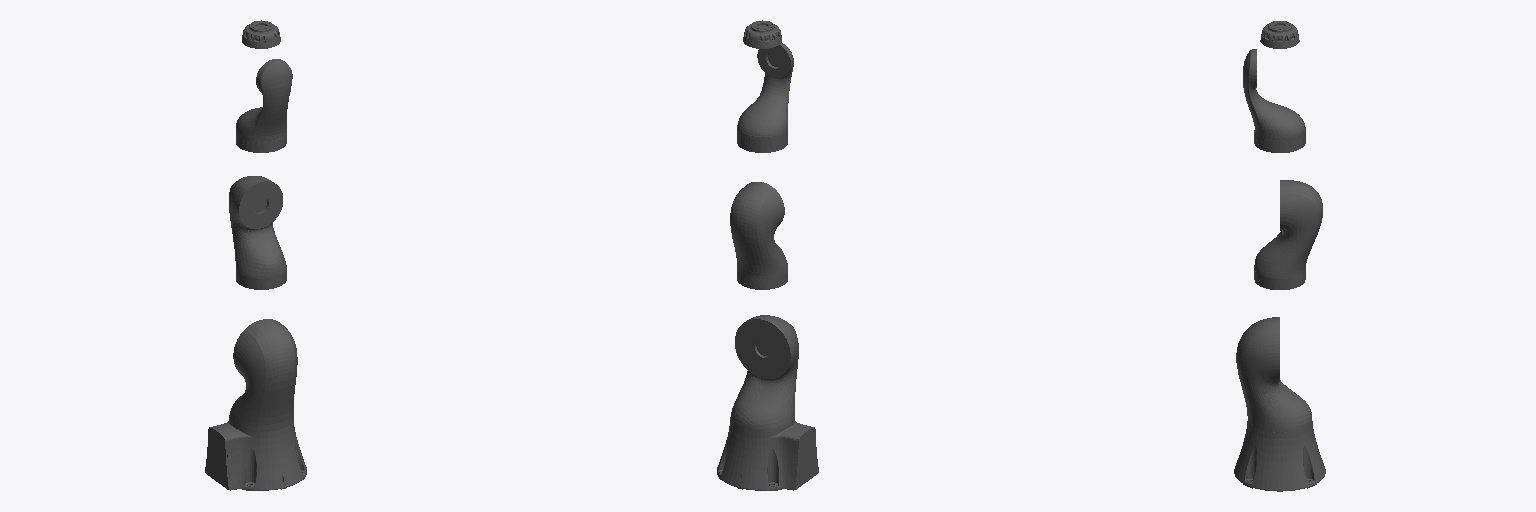
robot.urdf — iiwa14:
<?xml version="1.0"?>
<!-- =================================================================================== -->
<!-- |    This document was autogenerated by xacro from urdf/iiwa14_primitive_collision.urdf.xacro | -->
<!-- |    EDITING THIS FILE BY HAND IS NOT RECOMMENDED                                 | -->
<!-- =================================================================================== -->
<!-- ===================================================================== -->
<!-- Collision models: complex meshes can drastically affect run time.
     Therefore some collision models are represented as simple cylinders
     instead of meshes. However it's important to have accurate collision
     models for the end of the arm because we anticipate that the end is the
     most likely part of the arm to make contact.
-->
<!-- ===================================================================== -->
<robot xmlns:drake="http://drake.mit.edu" xmlns:xacro="http://www.ros.org/wiki/xacro" name="iiwa14">
  <!-- Import Rviz colors -->
  <material name="Black">
    <color rgba="0.0 0.0 0.0 1.0"/>
  </material>
  <material name="Blue">
    <color rgba="0.0 0.0 0.8 1.0"/>
  </material>
  <material name="Green">
    <color rgba="0.0 0.8 0.0 1.0"/>
  </material>
  <material name="Grey">
    <color rgba="0.4 0.4 0.4 1.0"/>
  </material>
  <material name="Silver">
    <color rgba="0.6 0.6 0.6 1.0"/>
  </material>
  <material name="Orange">
    <color rgba="1.0 0.423529411765 0.0392156862745 1.0"/>
  </material>
  <material name="Brown">
    <color rgba="0.870588235294 0.811764705882 0.764705882353 1.0"/>
  </material>
  <material name="Red">
    <color rgba="0.8 0.0 0.0 1.0"/>
  </material>
  <material name="White">
    <color rgba="1.0 1.0 1.0 1.0"/>
  </material>
  <!-- Defines a base link that will serve as the model's root. -->
  <link name="base"/>
  <!--joint between {parent} and link_0-->
  <joint name="iiwa_base_joint" type="fixed">
    <origin rpy="0 0 0" xyz="0 0 0"/>
    <parent link="base"/>
    <child link="iiwa_link_0"/>
  </joint>
  <link name="iiwa_link_0">
    <inertial>
      <origin rpy="0 0 0" xyz="-0.1 0 0.07"/>
      <mass value="5"/>
      <inertia ixx="0.05" ixy="0" ixz="0" iyy="0.06" iyz="0" izz="0.03"/>
    </inertial>
    <visual>
      <origin rpy="0 0 0" xyz="0 0 0"/>
      <geometry>
        <mesh filename="package://drake/manipulation/models/iiwa_description/meshes/visual/link_0.obj"/>
      </geometry>
      <material name="Grey"/>
    </visual>
    <collision>
      <origin rpy="0 0 0" xyz="-0.015 0 0.07"/>
      <geometry>
        <cylinder length="0.17" radius="0.139"/>
      </geometry>
      <material name="Grey"/>
    </collision>
    <self_collision_checking>
      <origin rpy="0 0 0" xyz="0 0 0"/>
      <geometry>
        <capsule length="0.25" radius="0.15"/>
      </geometry>
    </self_collision_checking>
  </link>
  <!-- joint between link_0 and link_1 -->
  <joint name="iiwa_joint_1" type="revolute">
    <parent link="iiwa_link_0"/>
    <child link="iiwa_link_1"/>
    <origin rpy="0 0 0" xyz="0 0 0.1575"/>
    <axis xyz="0 0 1"/>
    <limit drake:acceleration="8.57" effort="320" lower="-2.96705972839" upper="2.96705972839" velocity="1.4835298641951802"/>
    <dynamics damping="0.5"/>
  </joint>
  <link name="iiwa_link_1">
    <inertial>
      <origin rpy="0 0 0" xyz="0 -0.03 0.12"/>
      <mass value="5.76"/>
      <inertia ixx="0.033" ixy="0" ixz="0" iyy="0.0333" iyz="0" izz="0.0123"/>
    </inertial>
    <visual>
      <origin rpy="0 0 0" xyz="0 0 0"/>
      <geometry>
        <mesh filename="package://drake/manipulation/models/iiwa_description/meshes/visual/link_1.obj"/>
      </geometry>
      <material name="Grey"/>
    </visual>
    <collision>
      <origin rpy="0 0 0" xyz="0 -0.014 0.14"/>
      <geometry>
        <cylinder length="0.29" radius="0.101"/>
      </geometry>
      <material name="Grey"/>
    </collision>
  </link>
  <!-- joint between link_1 and link_2 -->
  <joint name="iiwa_joint_2" type="revolute">
    <parent link="iiwa_link_1"/>
    <child link="iiwa_link_2"/>
    <origin rpy="1.570796326794897   0 3.141592653589793" xyz="0 0 0.2025"/>
    <axis xyz="0 0 1"/>
    <limit drake:acceleration="8.57" effort="320" lower="-2.09439510239" upper="2.09439510239" velocity="1.4835298641951802"/>
    <dynamics damping="0.5"/>
  </joint>
  <link name="iiwa_link_2">
    <inertial>
      <origin rpy="0 0 0" xyz="0.0003 0.059 0.042"/>
      <mass value="6.35"/>
      <!-- 3.95 kuka CAD value-->
      <!--4 Original Drake URDF value-->
      <inertia ixx="0.0305" ixy="0" ixz="0" iyy="0.0304" iyz="0" izz="0.011"/>
    </inertial>
    <visual>
      <origin rpy="0 0 0" xyz="0 0 0"/>
      <geometry>
        <mesh filename="package://drake/manipulation/models/iiwa_description/meshes/visual/link_2_orange.obj"/>
      </geometry>
      <material name="Orange"/>
    </visual>
    <visual>
      <origin rpy="0 0 0" xyz="0 0 0"/>
      <geometry>
        <mesh filename="package://drake/manipulation/models/iiwa_description/meshes/visual/link_2_grey.obj"/>
      </geometry>
      <material name="Grey"/>
    </visual>
    <collision>
      <origin rpy="1.570796326794897 0 0" xyz="0 0.056 0.035"/>
      <geometry>
        <cylinder length="0.29" radius="0.101"/>
      </geometry>
      <material name="Orange"/>
    </collision>
  </link>
  <!-- joint between link_2 and link_3 -->
  <joint name="iiwa_joint_3" type="revolute">
    <parent link="iiwa_link_2"/>
    <child link="iiwa_link_3"/>
    <origin rpy="1.570796326794897 0 3.141592653589793" xyz="0 0.2045 0"/>
    <axis xyz="0 0 1"/>
    <limit drake:acceleration="8.74" effort="176" lower="-2.96705972839" upper="2.96705972839" velocity="1.7453292519943295"/>
    <dynamics damping="0.5"/>
  </joint>
  <link name="iiwa_link_3">
    <inertial>
      <origin rpy="0 0 0" xyz="0 0.03 0.13"/>
      <mass value="3.5"/>
      <!--3.18 kuka CAD value-->
      <!--3 Original Drake URDF value-->
      <inertia ixx="0.025" ixy="0" ixz="0" iyy="0.0238" iyz="0" izz="0.0076"/>
    </inertial>
    <visual>
      <origin rpy="0 0 0" xyz="0 0 0"/>
      <geometry>
        <mesh filename="package://drake/manipulation/models/iiwa_description/meshes/visual/link_3.obj"/>
      </geometry>
      <material name="Grey"/>
    </visual>
    <visual>
      <origin rpy="0 0 0" xyz="0 0 0"/>
      <geometry>
        <mesh filename="package://drake/manipulation/models/iiwa_description/meshes/visual/band.obj"/>
      </geometry>
      <material name="Silver"/>
    </visual>
    <visual>
      <origin rpy="0 0 0" xyz="0 0 0"/>
      <geometry>
        <mesh filename="package://drake/manipulation/models/iiwa_description/meshes/visual/kuka.obj"/>
      </geometry>
      <material name="Black"/>
    </visual>
    <collision>
      <origin rpy="0 0 0" xyz="0 0.025 0.137"/>
      <geometry>
        <cylinder length="0.29" radius="0.092"/>
      </geometry>
      <material name="Grey"/>
    </collision>
  </link>
  <!-- joint between link_3 and link_4 -->
  <joint name="iiwa_joint_4" type="revolute">
    <parent link="iiwa_link_3"/>
    <child link="iiwa_link_4"/>
    <origin rpy="1.570796326794897 0 0" xyz="0 0 0.2155"/>
    <axis xyz="0 0 1"/>
    <limit drake:acceleration="11.36" effort="176" lower="-2.09439510239" upper="2.09439510239" velocity="1.3089969389957472"/>
    <dynamics damping="0.5"/>
  </joint>
  <link name="iiwa_link_4">
    <inertial>
      <origin rpy="0 0 0" xyz="0 0.067 0.034"/>
      <mass value="3.5"/>
      <!--2.74 kuka CAD value-->
      <!--2.7 Original Drake URDF value-->
      <inertia ixx="0.017" ixy="0" ixz="0" iyy="0.0164" iyz="0" izz="0.006"/>
    </inertial>
    <visual>
      <origin rpy="0 0 0" xyz="0 0 0"/>
      <geometry>
        <mesh filename="package://drake/manipulation/models/iiwa_description/meshes/visual/link_4_orange.obj"/>
      </geometry>
      <material name="Orange"/>
    </visual>
    <visual>
      <origin rpy="0 0 0" xyz="0 0 0"/>
      <geometry>
        <mesh filename="package://drake/manipulation/models/iiwa_description/meshes/visual/link_4_grey.obj"/>
      </geometry>
      <material name="Grey"/>
    </visual>
    <collision>
      <origin rpy="1.570796326794897 0 0" xyz="0 0.056 0.025"/>
      <geometry>
        <cylinder length="0.25" radius="0.092"/>
      </geometry>
      <material name="Orange"/>
    </collision>
  </link>
  <!-- joint between link_4 and link_5 -->
  <joint name="iiwa_joint_5" type="revolute">
    <parent link="iiwa_link_4"/>
    <child link="iiwa_link_5"/>
    <origin rpy="-1.570796326794897 3.141592653589793 0" xyz="0 0.1845 0"/>
    <axis xyz="0 0 1"/>
    <limit drake:acceleration="12.23" effort="110" lower="-2.96705972839" upper="2.96705972839" velocity="2.2689280275926285"/>
    <dynamics damping="0.5"/>
  </joint>
  <link name="iiwa_link_5">
    <inertial>
      <origin rpy="0 0 0" xyz="0.0001 0.021 0.076"/>
      <mass value="3.5"/>
      <!--1.69 kuka CAD value-->
      <!--1.7 Original Drake URDF value-->
      <inertia ixx="0.01" ixy="0" ixz="0" iyy="0.0087" iyz="0" izz="0.00449"/>
    </inertial>
    <visual>
      <origin rpy="0 0 0" xyz="0 0 0"/>
      <geometry>
        <mesh filename="package://drake/manipulation/models/iiwa_description/meshes/visual/link_5.obj"/>
      </geometry>
      <material name="Grey"/>
    </visual>
    <visual>
      <origin rpy="0 0 0" xyz="0 0 0"/>
      <geometry>
        <mesh filename="package://drake/manipulation/models/iiwa_description/meshes/visual/band.obj"/>
      </geometry>
      <material name="Silver"/>
    </visual>
    <visual>
      <origin rpy="0 0 0" xyz="0 0 0"/>
      <geometry>
        <mesh filename="package://drake/manipulation/models/iiwa_description/meshes/visual/kuka.obj"/>
      </geometry>
      <material name="Black"/>
    </visual>
    <collision>
      <origin rpy="-0.3 0 0" xyz="0 0.03 0.13"/>
      <geometry>
        <cylinder length="0.29" radius="0.07"/>
      </geometry>
      <material name="Grey"/>
    </collision>
  </link>
  <!-- joint between link_5 and link_6 -->
  <joint name="iiwa_joint_6" type="revolute">
    <parent link="iiwa_link_5"/>
    <child link="iiwa_link_6"/>
    <origin rpy="1.570796326794897 0 0" xyz="0 0 0.2155"/>
    <axis xyz="0 0 1"/>
    <limit drake:acceleration="15.72" effort="40" lower="-2.09439510239" upper="2.09439510239" velocity="2.356194490192345"/>
    <dynamics damping="0.5"/>
  </joint>
  <link name="iiwa_link_6">
    <inertial>
      <origin rpy="0 0 0" xyz="0 0.0006 0.0004"/>
      <mass value="1.8"/>
      <!--1.8 kuka CAD value-->
      <!--1.8 Original Drake URDF value-->
      <inertia ixx="0.0049" ixy="0" ixz="0" iyy="0.0047" iyz="0" izz="0.0036"/>
    </inertial>
    <visual>
      <origin rpy="0 0 0" xyz="0 0 0"/>
      <geometry>
        <mesh filename="package://drake/manipulation/models/iiwa_description/meshes/visual/link_6_orange.obj"/>
      </geometry>
      <material name="Orange"/>
    </visual>
    <visual>
      <origin rpy="0 0 0" xyz="0 0 0"/>
      <geometry>
        <mesh filename="package://drake/manipulation/models/iiwa_description/meshes/visual/link_6_grey.obj"/>
      </geometry>
      <material name="Grey"/>
    </visual>
    <collision>
      <origin rpy="0 0 0" xyz="0 0 0"/>
      <geometry>
        <!-- Note that the mesh-based collision model is intentionally being
            used despite being in "primitive" mode. -->
        <mesh filename="package://drake/manipulation/models/iiwa_description/meshes/collision/link_6.obj"/>
      </geometry>
      <material name="Orange"/>
    </collision>
  </link>
  <!-- joint between link_6 and link_7 -->
  <joint name="iiwa_joint_7" type="revolute">
    <parent link="iiwa_link_6"/>
    <child link="iiwa_link_7"/>
    <origin rpy="-1.570796326794897 3.141592653589793 0" xyz="0 0.081 0"/>
    <axis xyz="0 0 1"/>
    <limit drake:acceleration="15.72" effort="40" lower="-3.05432619099" upper="3.05432619099" velocity="2.356194490192345"/>
    <dynamics damping="0.5"/>
  </joint>
  <link name="iiwa_link_7">
    <inertial>
      <origin rpy="0 0 0" xyz="0 0 0.02"/>
      <mass value="1.2"/>
      <!--0.31 kuka CAD value-->
      <!--0.3 Original Drake URDF value-->
      <inertia ixx="0.001" ixy="0" ixz="0" iyy="0.001" iyz="0" izz="0.001"/>
    </inertial>
    <visual>
      <origin rpy="0 0 0" xyz="0 0 0"/>
      <geometry>
        <mesh filename="package://drake/manipulation/models/iiwa_description/meshes/visual/link_7.obj"/>
      </geometry>
      <material name="Grey"/>
    </visual>
    <collision>
      <origin rpy="0 0 0" xyz="0 0 0"/>
      <geometry>
        <!-- Note that the mesh-based collision model is intentionally being
            used despite being in "primitive" mode. -->
        <mesh filename="package://drake/manipulation/models/iiwa_description/meshes/collision/link_7.obj"/>
      </geometry>
      <material name="Grey"/>
    </collision>
  </link>
  <joint name="iiwa_joint_ee" type="fixed">
    <parent link="iiwa_link_7"/>
    <child link="iiwa_link_ee_kuka"/>
    <origin rpy="3.141592653589793 3.141592653589793 3.141592653589793" xyz="0 0 0.045"/>
    <axis xyz="0 0 1"/>
  </joint>
  <link name="iiwa_link_ee_kuka">
    </link>
  <joint name="tool0_joint" type="fixed">
    <parent link="iiwa_link_7"/>
    <child link="iiwa_link_ee"/>
    <origin rpy="0 -1.570796326794897 0" xyz="0 0 0.045"/>
  </joint>
  <link name="iiwa_link_ee">
    </link>
  <frame link="iiwa_link_ee" name="iiwa_frame_ee" rpy="3.141592653589793 0 1.570796326794897" xyz="0.09 0 0"/>
  <!-- Load Gazebo lib and set the robot namespace -->
  <gazebo>
    <plugin filename="libgazebo_ros_control.so" name="gazebo_ros_controller">
      <robotNamespace>/iiwa</robotNamespace>
    </plugin>
  </gazebo>
  <!-- Link0 -->
  <gazebo reference="iiwa_link_0">
    <material>Gazebo/Grey</material>
    <mu1>0.2</mu1>
    <mu2>0.2</mu2>
  </gazebo>
  <!-- Link1 -->
  <gazebo reference="iiwa_link_1">
    <material>Gazebo/Orange</material>
    <mu1>0.2</mu1>
    <mu2>0.2</mu2>
  </gazebo>
  <!-- Link2 -->
  <gazebo reference="iiwa_link_2">
    <material>Gazebo/Orange</material>
    <mu1>0.2</mu1>
    <mu2>0.2</mu2>
  </gazebo>
  <!-- Link3 -->
  <gazebo reference="iiwa_link_3">
    <material>Gazebo/Orange</material>
    <mu1>0.2</mu1>
    <mu2>0.2</mu2>
  </gazebo>
  <!-- Link4 -->
  <gazebo reference="iiwa_link_4">
    <material>Gazebo/Orange</material>
    <mu1>0.2</mu1>
    <mu2>0.2</mu2>
  </gazebo>
  <!-- Link5 -->
  <gazebo reference="iiwa_link_5">
    <material>Gazebo/Orange</material>
    <mu1>0.2</mu1>
    <mu2>0.2</mu2>
  </gazebo>
  <!-- Link6 -->
  <gazebo reference="iiwa_link_6">
    <material>Gazebo/Orange</material>
    <mu1>0.2</mu1>
    <mu2>0.2</mu2>
  </gazebo>
  <!-- Link7 -->
  <gazebo reference="iiwa_link_7">
    <material>Gazebo/Grey</material>
    <mu1>0.2</mu1>
    <mu2>0.2</mu2>
  </gazebo>
  <transmission name="iiwa_tran_1">
    <robotNamespace>/iiwa</robotNamespace>
    <type>transmission_interface/SimpleTransmission</type>
    <joint name="iiwa_joint_1">
      <hardwareInterface>PositionJointInterface</hardwareInterface>
    </joint>
    <actuator name="iiwa_motor_1">
      <hardwareInterface>PositionJointInterface</hardwareInterface>
      <mechanicalReduction>1</mechanicalReduction>
    </actuator>
  </transmission>
  <transmission name="iiwa_tran_2">
    <robotNamespace>/iiwa</robotNamespace>
    <type>transmission_interface/SimpleTransmission</type>
    <joint name="iiwa_joint_2">
      <hardwareInterface>PositionJointInterface</hardwareInterface>
    </joint>
    <actuator name="iiwa_motor_2">
      <hardwareInterface>PositionJointInterface</hardwareInterface>
      <mechanicalReduction>1</mechanicalReduction>
    </actuator>
  </transmission>
  <transmission name="iiwa_tran_3">
    <robotNamespace>/iiwa</robotNamespace>
    <type>transmission_interface/SimpleTransmission</type>
    <joint name="iiwa_joint_3">
      <hardwareInterface>PositionJointInterface</hardwareInterface>
    </joint>
    <actuator name="iiwa_motor_3">
      <hardwareInterface>PositionJointInterface</hardwareInterface>
      <mechanicalReduction>1</mechanicalReduction>
    </actuator>
  </transmission>
  <transmission name="iiwa_tran_4">
    <robotNamespace>/iiwa</robotNamespace>
    <type>transmission_interface/SimpleTransmission</type>
    <joint name="iiwa_joint_4">
      <hardwareInterface>PositionJointInterface</hardwareInterface>
    </joint>
    <actuator name="iiwa_motor_4">
      <hardwareInterface>PositionJointInterface</hardwareInterface>
      <mechanicalReduction>1</mechanicalReduction>
    </actuator>
  </transmission>
  <transmission name="iiwa_tran_5">
    <robotNamespace>/iiwa</robotNamespace>
    <type>transmission_interface/SimpleTransmission</type>
    <joint name="iiwa_joint_5">
      <hardwareInterface>PositionJointInterface</hardwareInterface>
    </joint>
    <actuator name="iiwa_motor_5">
      <hardwareInterface>PositionJointInterface</hardwareInterface>
      <mechanicalReduction>1</mechanicalReduction>
    </actuator>
  </transmission>
  <transmission name="iiwa_tran_6">
    <robotNamespace>/iiwa</robotNamespace>
    <type>transmission_interface/SimpleTransmission</type>
    <joint name="iiwa_joint_6">
      <hardwareInterface>PositionJointInterface</hardwareInterface>
    </joint>
    <actuator name="iiwa_motor_6">
      <hardwareInterface>PositionJointInterface</hardwareInterface>
      <mechanicalReduction>1</mechanicalReduction>
    </actuator>
  </transmission>
  <transmission name="iiwa_tran_7">
    <robotNamespace>/iiwa</robotNamespace>
    <type>transmission_interface/SimpleTransmission</type>
    <joint name="iiwa_joint_7">
      <hardwareInterface>PositionJointInterface</hardwareInterface>
    </joint>
    <actuator name="iiwa_motor_7">
      <hardwareInterface>PositionJointInterface</hardwareInterface>
      <mechanicalReduction>1</mechanicalReduction>
    </actuator>
  </transmission>
</robot>

--- What the picture shows (computed from the rendered views, not written in the file) ---
Views: 3 orthographic renders of the robot side by side, from view 1: azimuth 30°, elevation 25°; view 2: azimuth 150°, elevation 25°; view 3: azimuth 270°, elevation 25°.
Robot: iiwa14 — 11 links, 10 joints (7 revolute, 3 fixed); root link base; default pose: every joint at zero.
Links seen in each view (by area): view 1: iiwa_link_1, iiwa_link_0, iiwa_link_3, iiwa_link_5, iiwa_link_7; view 2: iiwa_link_1, iiwa_link_0, iiwa_link_3, iiwa_link_5, iiwa_link_7; view 3: iiwa_link_1, iiwa_link_0, iiwa_link_3, iiwa_link_5, iiwa_link_7.
Boxes of the visible links, <box> form: iiwa_link_1: <box>229,319,297,431</box>; iiwa_link_0: <box>205,420,306,490</box>; iiwa_link_3: <box>229,176,286,289</box>; iiwa_link_5: <box>236,59,292,152</box>; iiwa_link_7: <box>242,20,280,48</box>; iiwa_link_1: <box>730,315,798,431</box>; iiwa_link_0: <box>717,419,818,490</box>; iiwa_link_3: <box>730,182,787,289</box>; iiwa_link_5: <box>737,43,793,152</box>; iiwa_link_7: <box>743,20,781,48</box>; iiwa_link_1: <box>1236,317,1311,432</box>; iiwa_link_0: <box>1234,421,1325,491</box>; iiwa_link_3: <box>1254,180,1322,289</box>; iiwa_link_5: <box>1243,49,1305,152</box>; iiwa_link_7: <box>1260,21,1299,48</box>.
Size in the robot's own frame: 0.2572 by 0.2428 by 1.31 metres.
Meshes: 13 distinct files referenced, 5 mesh visuals loaded (5 OBJ); not drawn: 10 (reference not matched to a file when rendering).